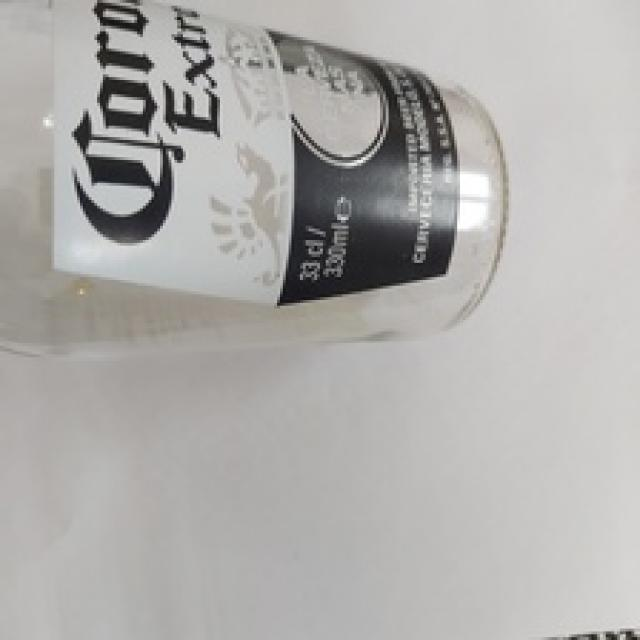BotolKaca: (0, 0, 520, 359)
